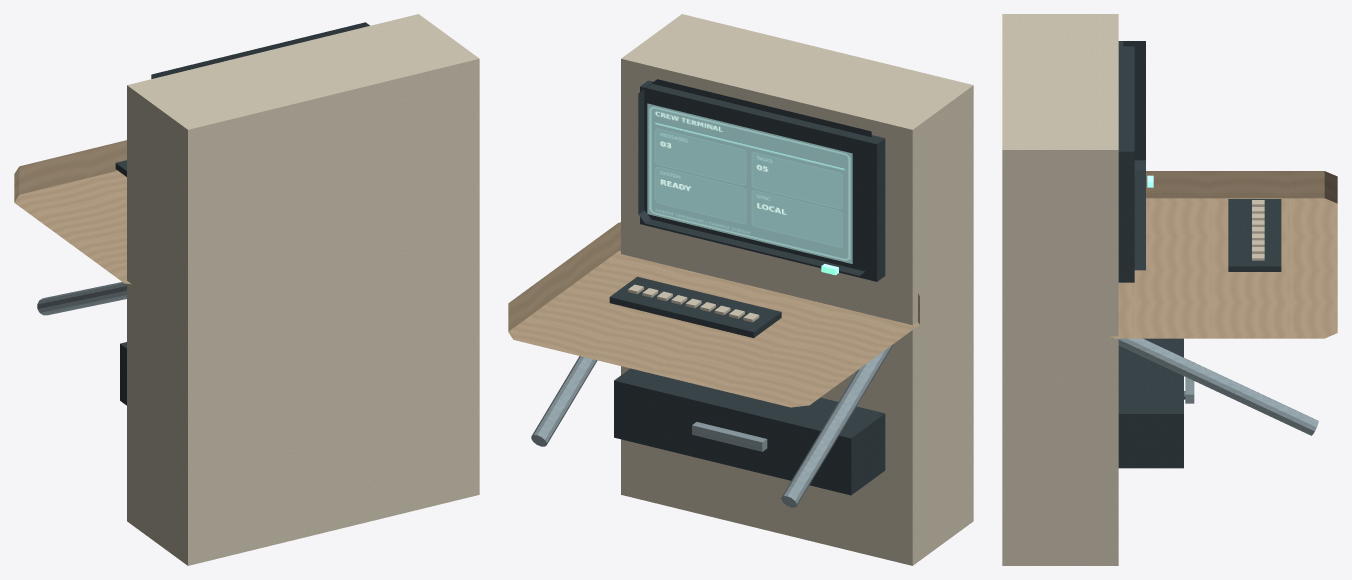
The model's file is crew_personal_desk.glb.
3 views of the same model, side by side, from view 1: azimuth 30°, elevation 25°; view 2: azimuth 150°, elevation 25°; view 3: azimuth 270°, elevation 25° (orthographic). The views are drawn at different scales.
Visible parts, largest first — view 1: Desk_Cabinet__cream, Foldout_Desk__bamboo, Folding_Braces__alloy, Display__graphite; view 2: Desk_Cabinet__cream, Foldout_Desk__bamboo, Display__ui_personal, Storage_Drawer__graphite, Monitor_Housing__graphite, Folding_Braces__alloy, Keyboard__graphite, Display__graphite, Storage_Drawer__alloy, Keyboard_Keys__cream; view 3: Desk_Cabinet__cream, Foldout_Desk__bamboo, Storage_Drawer__graphite, Monitor_Housing__graphite, Folding_Braces__alloy, Keyboard__graphite, Display__graphite, Keyboard_Keys__cream.
Boxes of the visible parts, x1,y1,x2,y2 form: Desk_Cabinet__cream: (127,14,479,565); Foldout_Desk__bamboo: (14,140,131,284); Folding_Braces__alloy: (37,282,126,315); Display__graphite: (151,22,369,78); Desk_Cabinet__cream: (621,14,973,565); Foldout_Desk__bamboo: (508,222,919,407); Display__ui_personal: (647,103,852,263); Storage_Drawer__graphite: (614,368,885,495); Monitor_Housing__graphite: (640,80,885,281); Folding_Braces__alloy: (531,344,893,507); Keyboard__graphite: (609,276,781,338); Display__graphite: (638,79,871,275); Storage_Drawer__alloy: (692,422,767,451); Keyboard_Keys__cream: (628,284,759,322); Desk_Cabinet__cream: (1002,14,1118,565); Foldout_Desk__bamboo: (1109,171,1337,338); Storage_Drawer__graphite: (1118,338,1183,468); Monitor_Housing__graphite: (1118,41,1134,282); Folding_Braces__alloy: (1118,338,1318,435); Keyboard__graphite: (1228,199,1281,271); Display__graphite: (1123,41,1145,270); Keyboard_Keys__cream: (1252,200,1264,260).
Bounding box in the file's own units: 0.94 × 1.3 × 0.95.
Materials: 7 (7 with a texture image).
